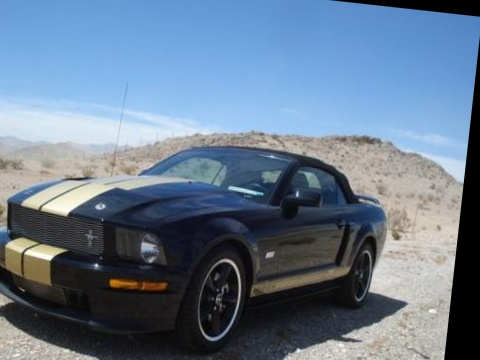car: (0, 110, 423, 360)
